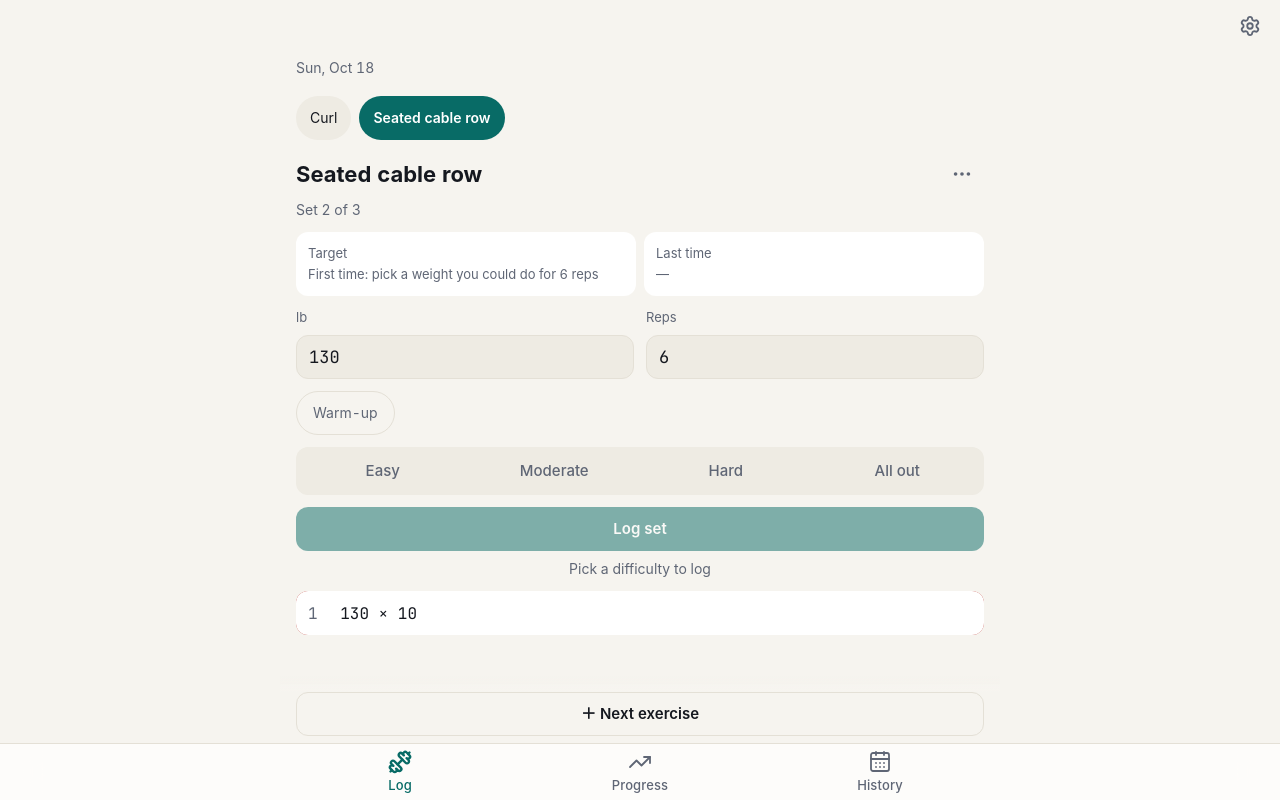
Scenario: log screen › tapping the current chip or re-picking the current exercise keeps what's typed (wave 2 review)
Type "145" into the field named "Weight, lb".
click(465, 357); type("145")  # box [296,335,634,379]
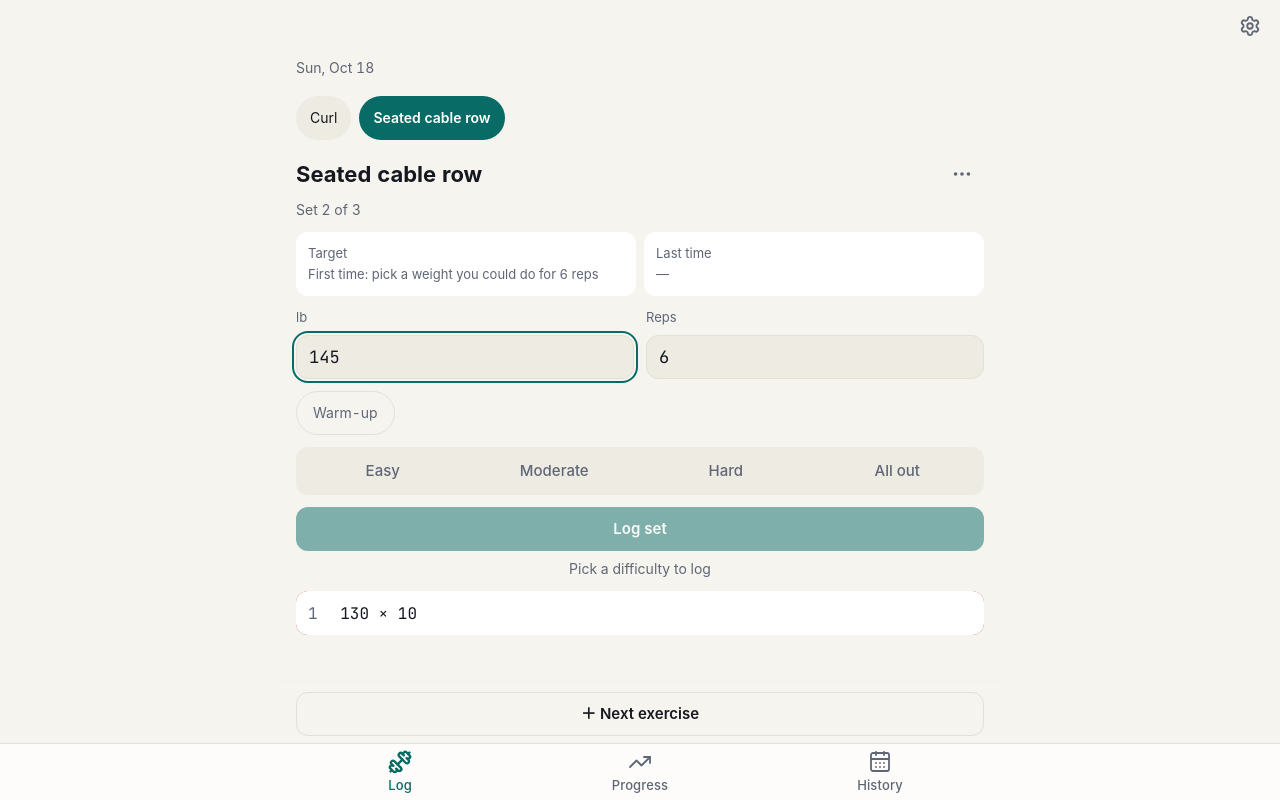
Click the radio button labelled "Hard".
click(726, 471)  # box [641,449,810,493]
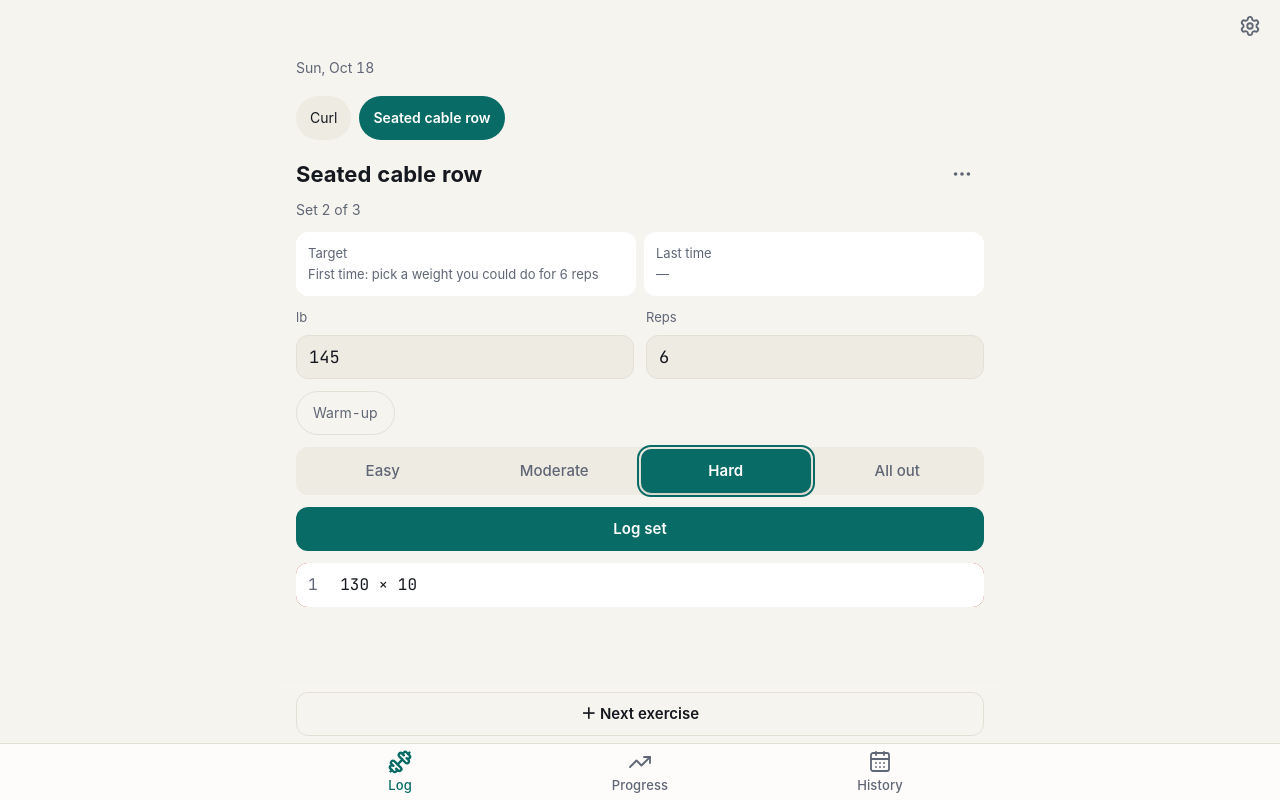
Click the button "Seated cable row".
click(432, 118)  # box [359,96,505,140]
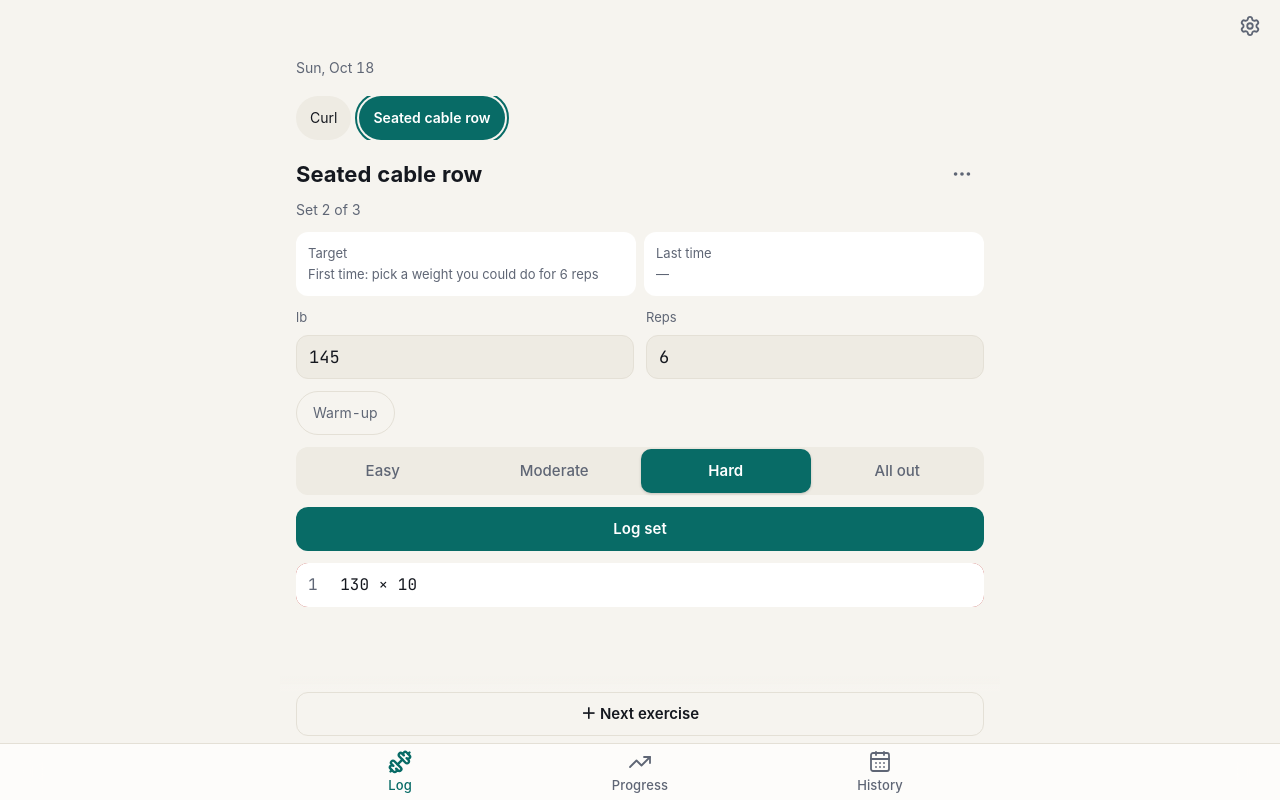
Click the button "＋ Next exercise".
click(640, 714)  # box [296,692,984,736]
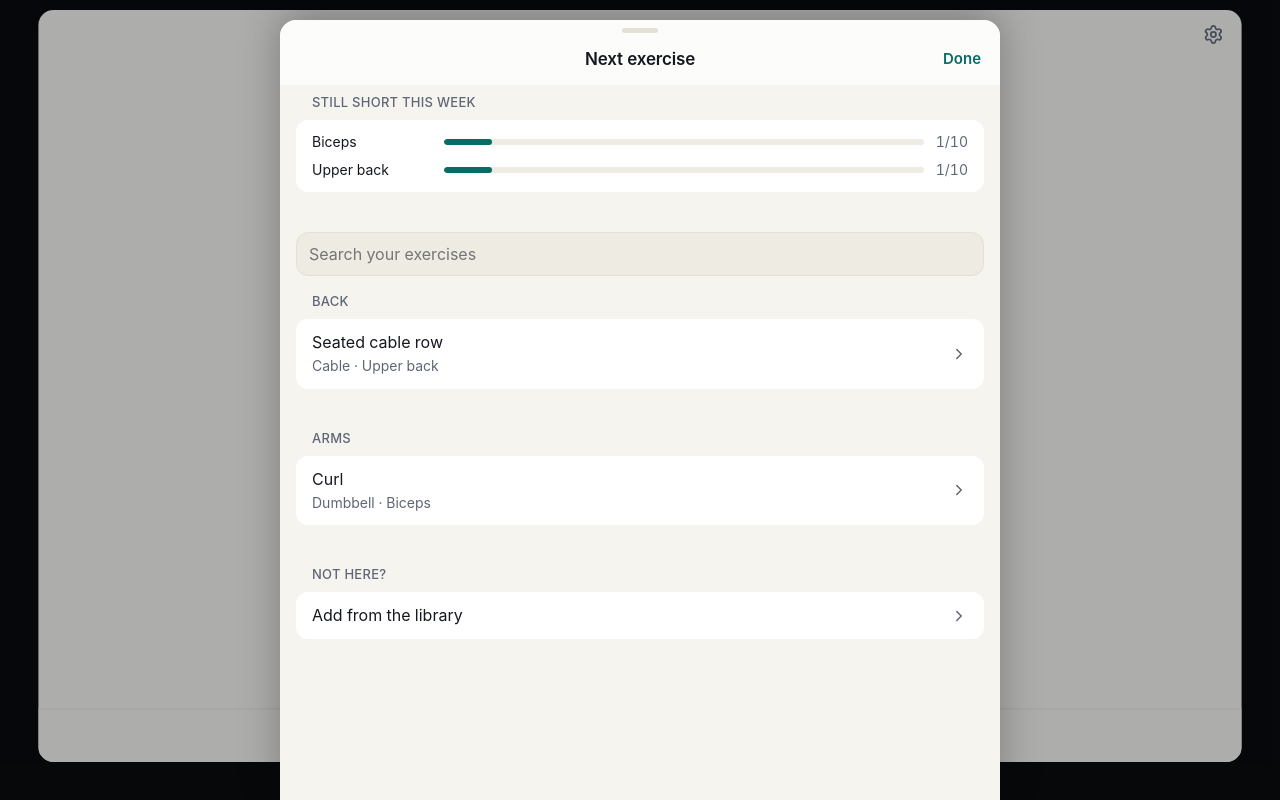
Click the button "Seated cable row Cable · Upper back".
click(377, 342)  # box [296,319,984,389]
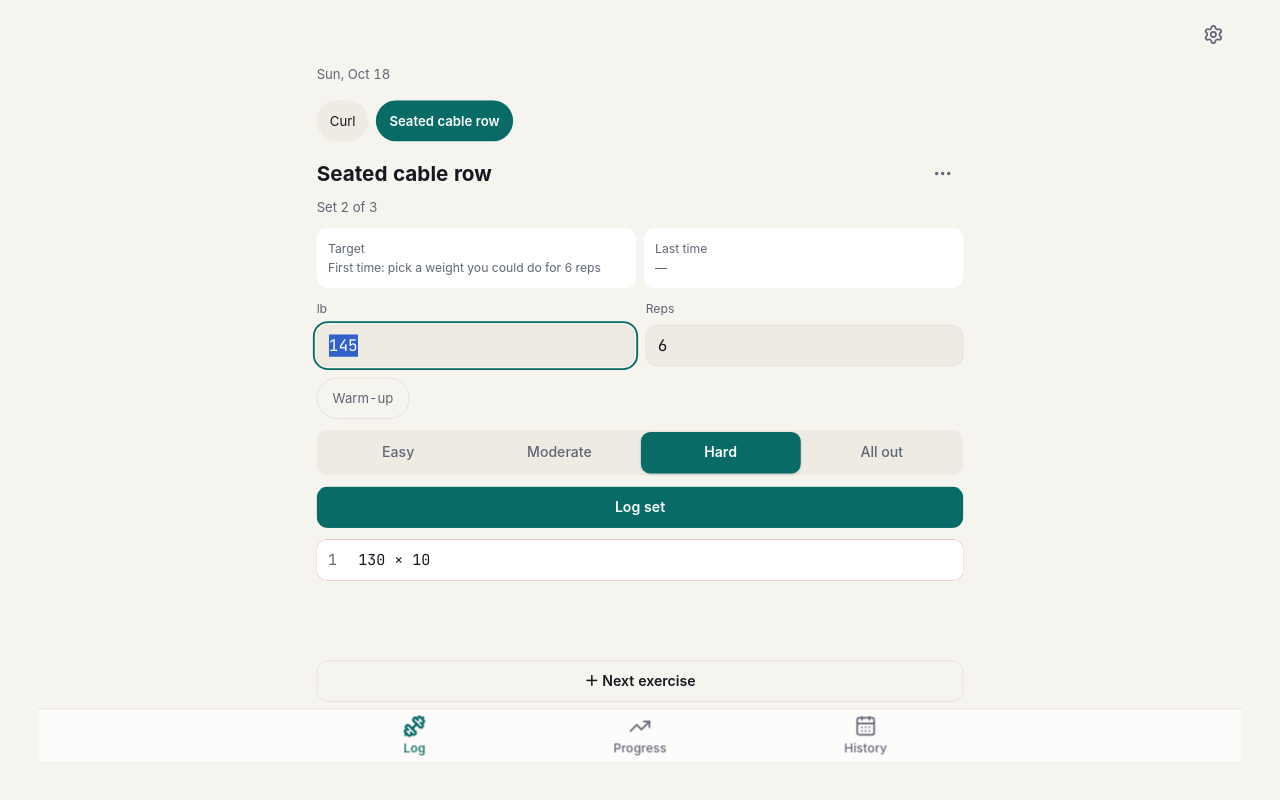
expect the dialog is gone: met
